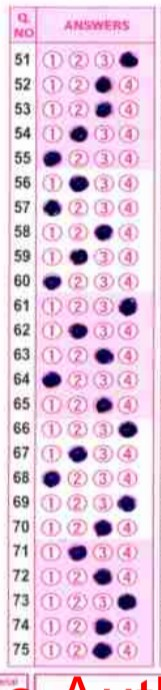filled circles: (119, 297, 138, 317), (42, 371, 61, 388), (69, 175, 88, 192), (92, 642, 112, 658), (93, 568, 111, 585), (43, 199, 61, 216), (68, 446, 87, 462), (118, 421, 137, 437), (117, 593, 136, 609), (68, 545, 87, 561), (94, 519, 111, 536), (94, 224, 112, 240), (95, 348, 113, 364), (117, 495, 135, 511), (43, 151, 61, 167), (119, 51, 137, 67), (70, 126, 87, 142), (43, 471, 60, 487), (95, 618, 112, 634), (69, 323, 87, 338), (95, 76, 111, 92), (70, 249, 87, 264), (95, 102, 112, 117), (96, 397, 112, 412), (43, 275, 60, 289)
